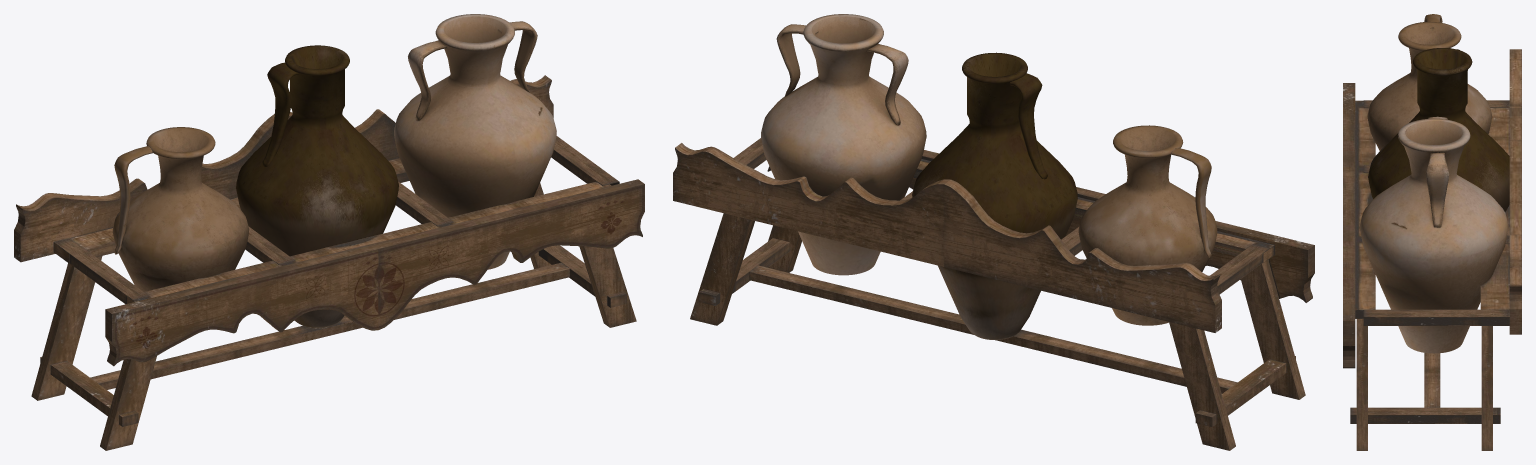
Rendered from jar_shelf.glb.
3 renders of one model, left to right at view 1: azimuth 30°, elevation 25°; view 2: azimuth 150°, elevation 25°; view 3: azimuth 270°, elevation 25°, orthographic. The views are drawn at different scales.
Visible parts, largest first — view 1: Object_2; view 2: Object_2; view 3: Object_2.
Boxes of the visible parts, x1,y1,x2,y2 form: Object_2: (14, 14, 644, 450); Object_2: (673, 14, 1314, 450); Object_2: (1343, 14, 1521, 450).
Size of the model in its own units: 2.64 by 1.4 by 0.841.
Materials: 6 (6 with a texture image).
